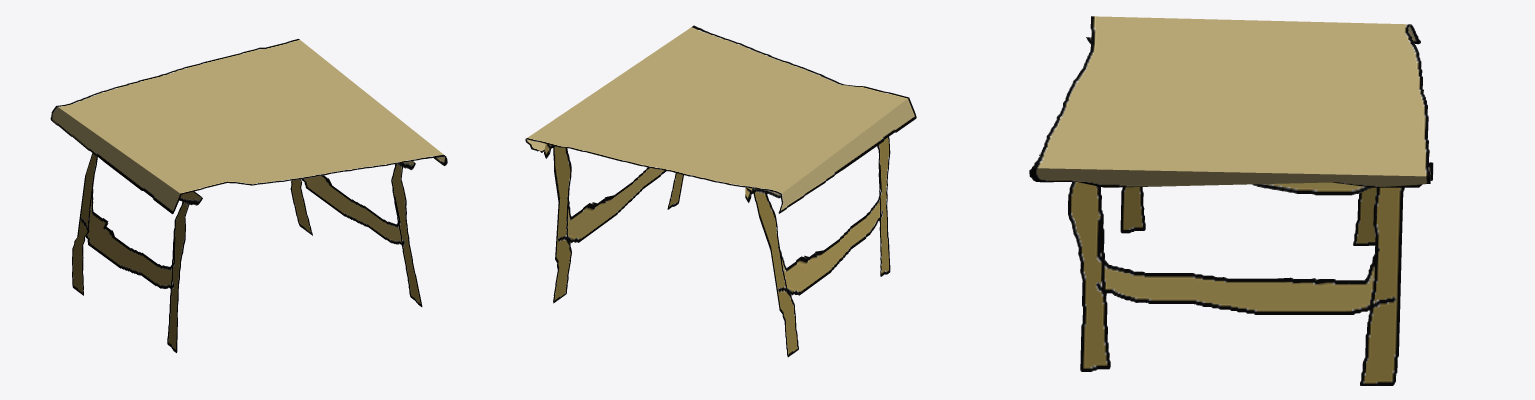
File: studentdesk.fbx
The picture shows the model from 3 angles, left to right: view 1: azimuth 30°, elevation 25°; view 2: azimuth 150°, elevation 25°; view 3: azimuth 270°, elevation 25°; orthographic projection. The views are drawn at different scales.
Parts seen in each view (by area): view 1: Cube.001; view 2: Cube.001; view 3: Cube.001.
Boxes of the visible parts, bbox=[...] form: Cube.001: bbox=[50, 38, 447, 352]; Cube.001: bbox=[525, 25, 916, 357]; Cube.001: bbox=[1029, 16, 1433, 385].
Size of the model in its own units: 86.85 by 55.69 by 118.
Materials: 1 (1 with a texture image).
